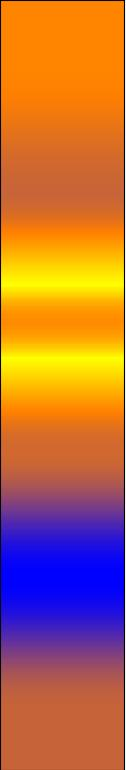Thermal Runaway: (9, 221, 121, 431), (6, 8, 115, 132)
critical: (11, 661, 110, 765), (9, 445, 118, 502), (8, 149, 115, 204)
safe: (4, 515, 120, 654)
